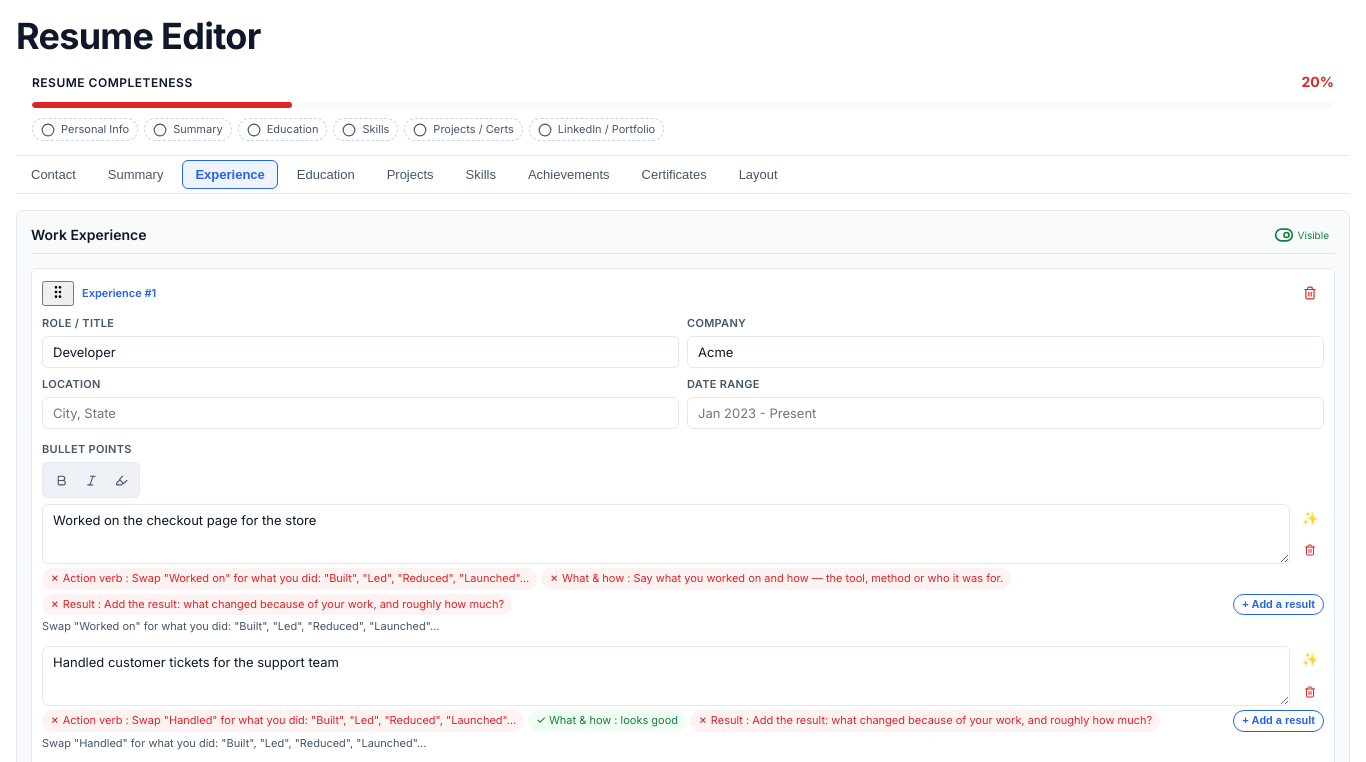
it: AI bullet results arriving late › shows request errors inline instead of an alert
Click the 1st button titled "Enhance bullet point with AI" at x=1310, y=518, box x1=1296 y1=504 x2=1324 y2=532
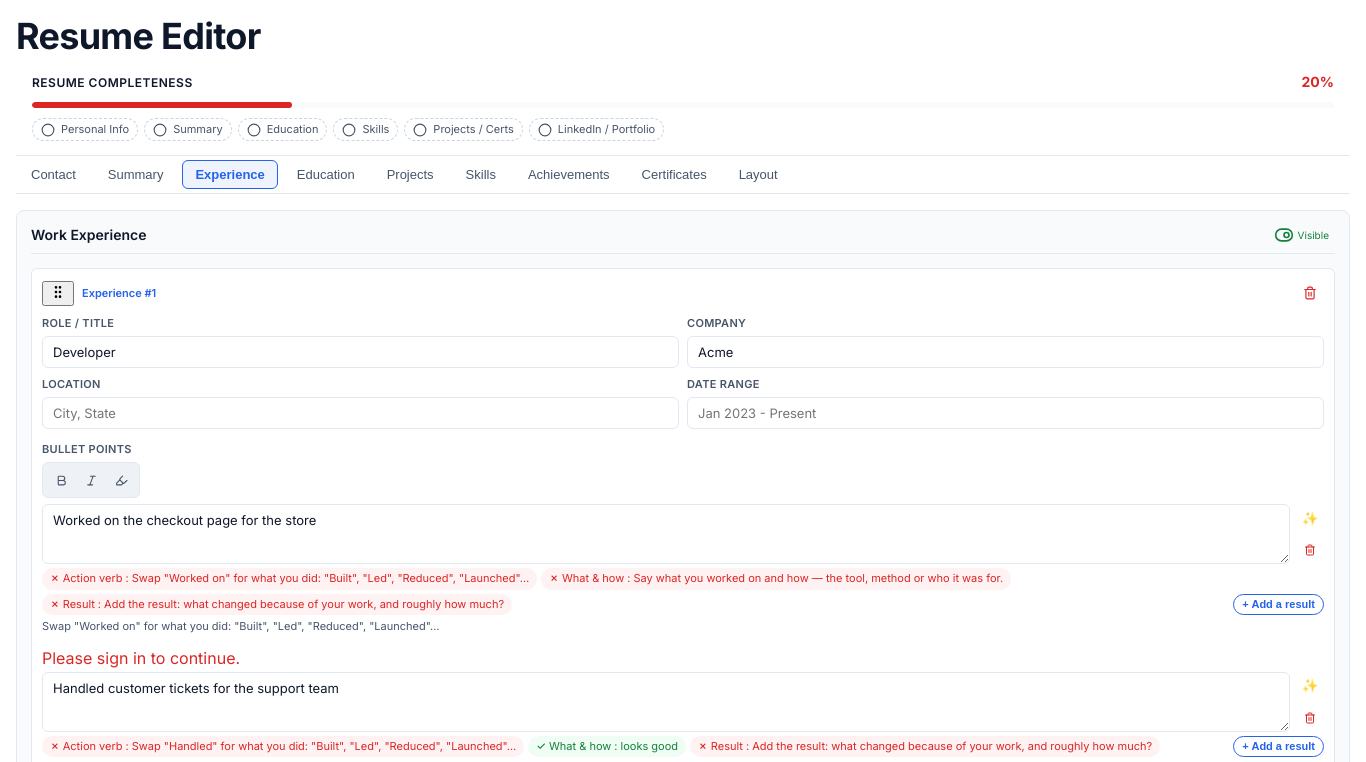
Expected: the text "Please sign in to continue." is shown, x1=42 y1=648 x2=240 y2=668
